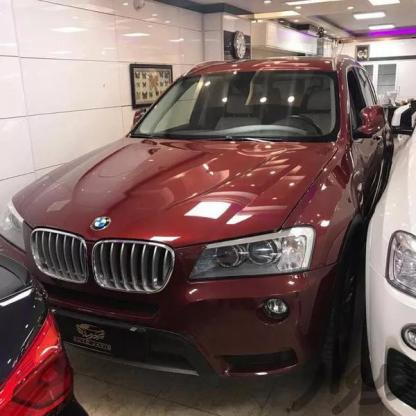Car: (0, 29, 367, 386), (359, 91, 416, 409)
